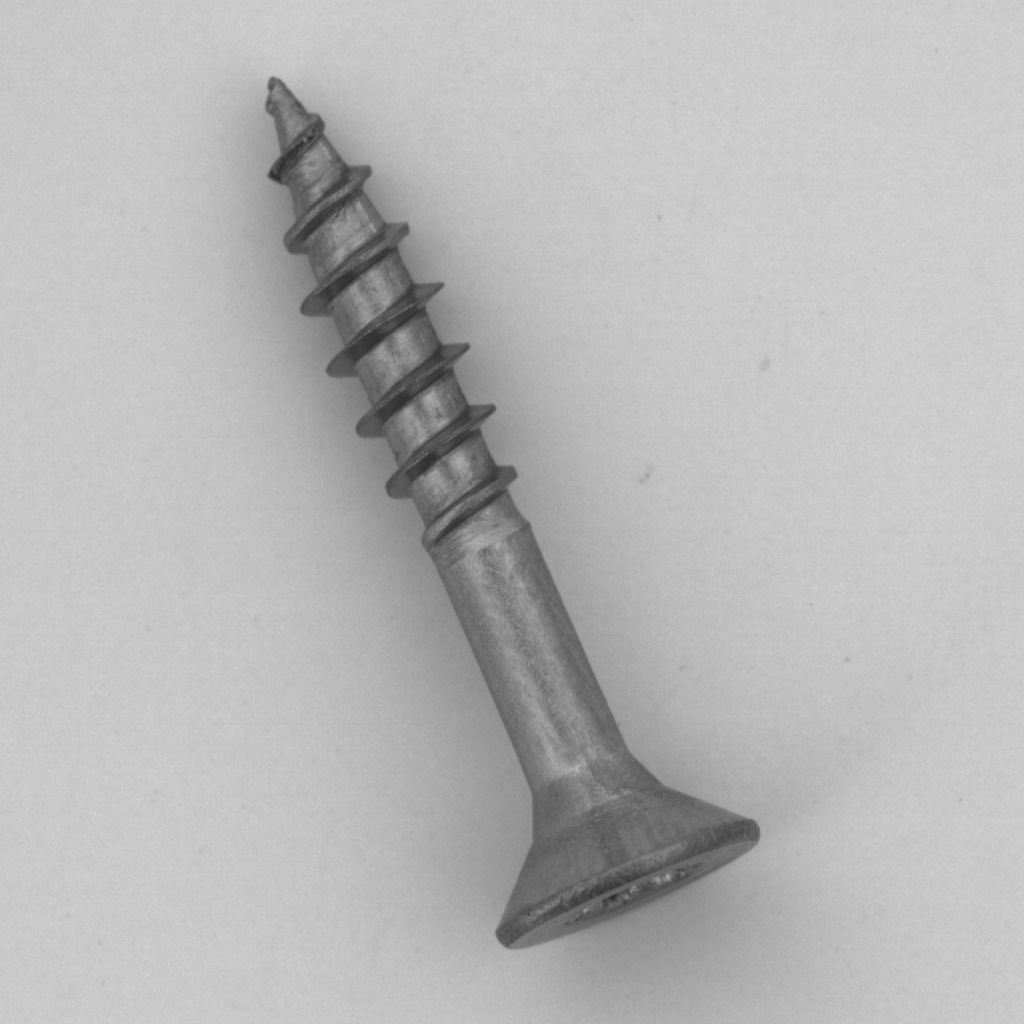good: (237, 60, 783, 969)
